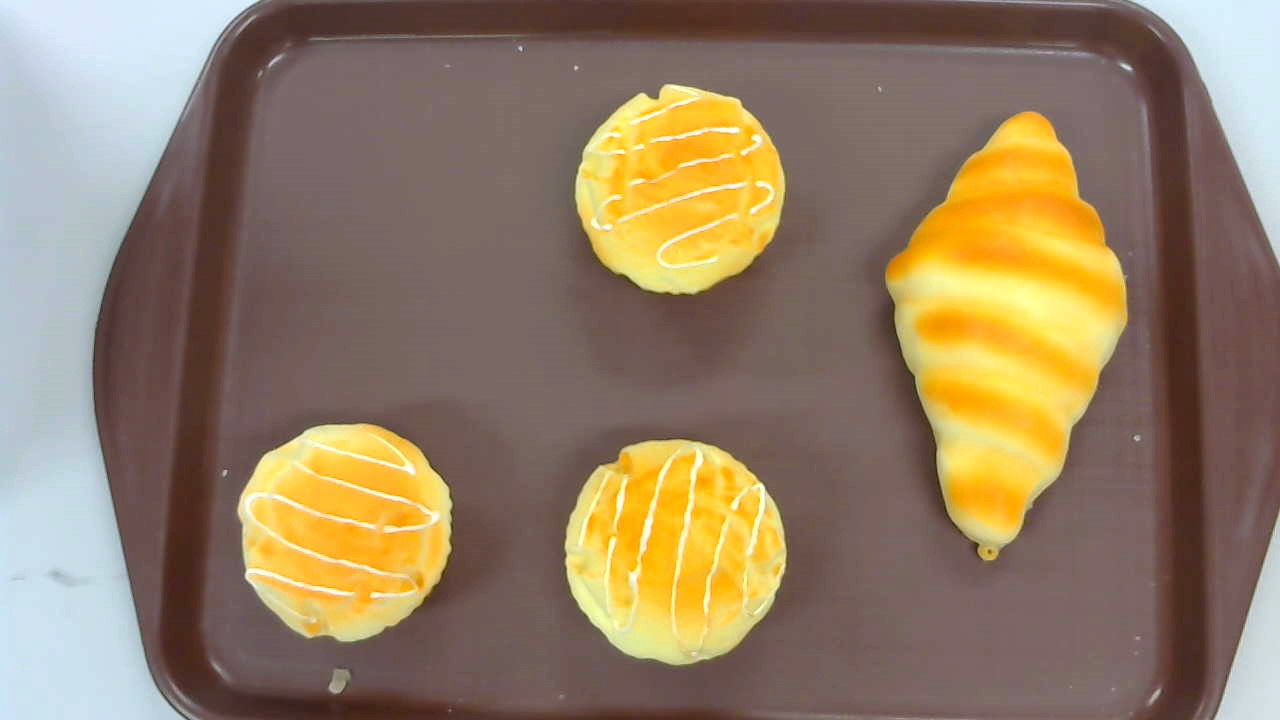croissant: (884, 112, 1127, 563)
cupcake: (564, 439, 786, 666), (237, 420, 453, 644), (575, 84, 784, 296)
